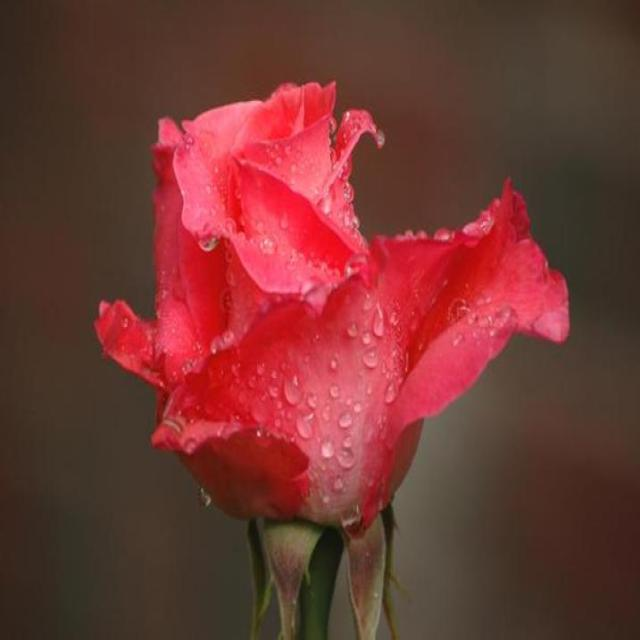rose: (88, 66, 588, 639)
